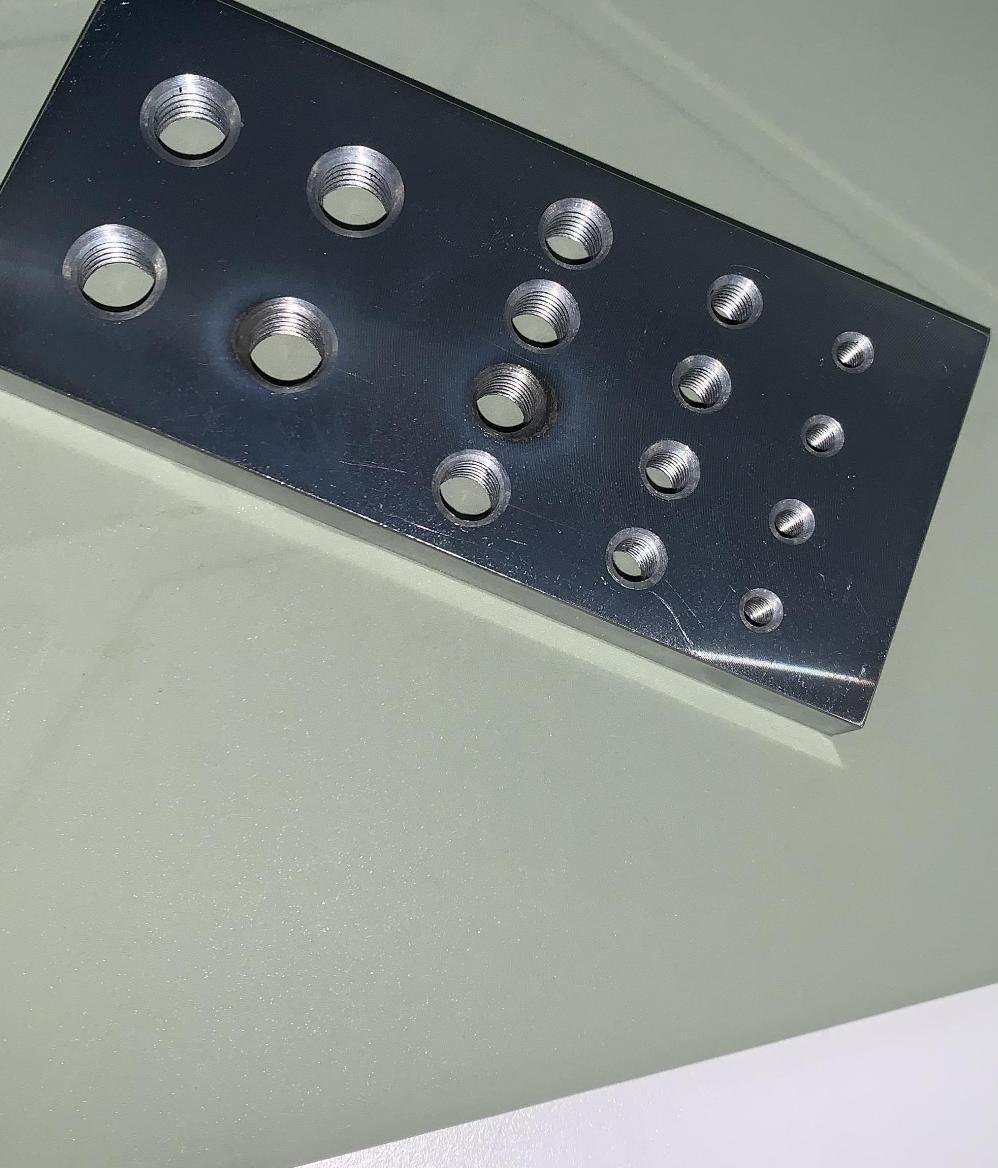hole: (55, 195, 187, 333), (226, 280, 346, 416), (135, 45, 251, 173), (294, 132, 406, 249), (463, 350, 560, 439), (500, 268, 584, 358), (537, 185, 613, 279), (654, 344, 750, 418), (423, 449, 507, 531), (600, 514, 678, 598), (630, 432, 714, 510), (701, 268, 771, 342), (762, 478, 818, 558), (827, 320, 883, 391), (797, 405, 853, 472), (736, 580, 790, 648)
